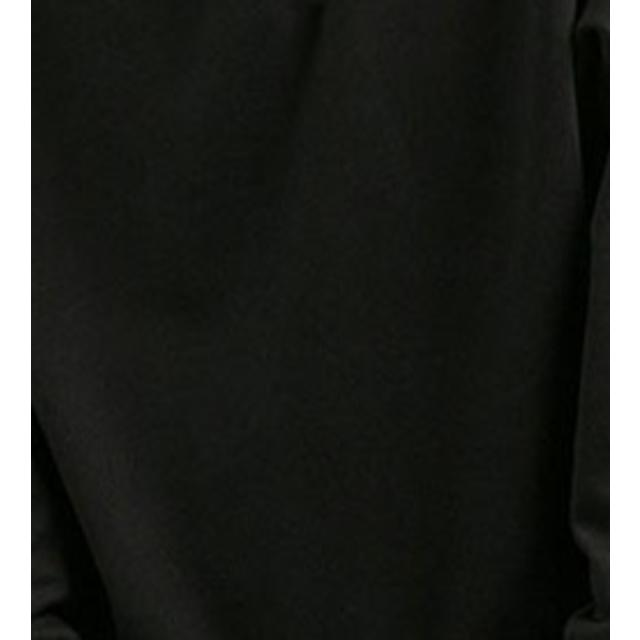polyester: (31, 0, 610, 640)
